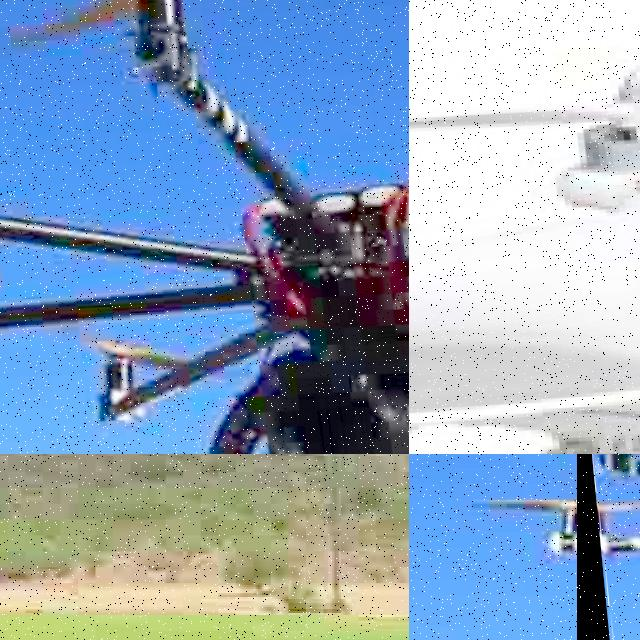0: (0, 0, 409, 454), (577, 454, 640, 640)
drone: (409, 24, 640, 454)
